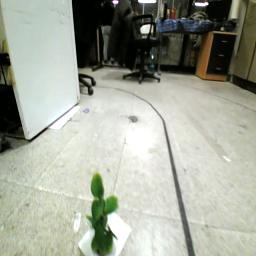herb: (88, 175, 118, 255)
